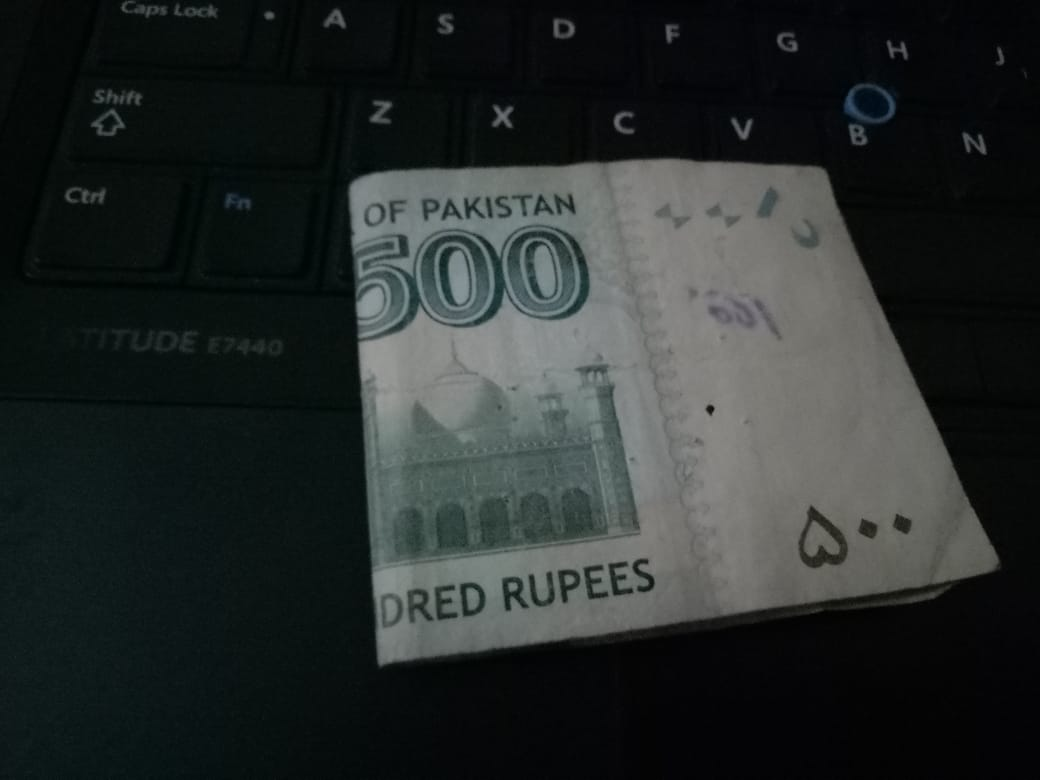500 rupee: (323, 141, 1013, 679)
